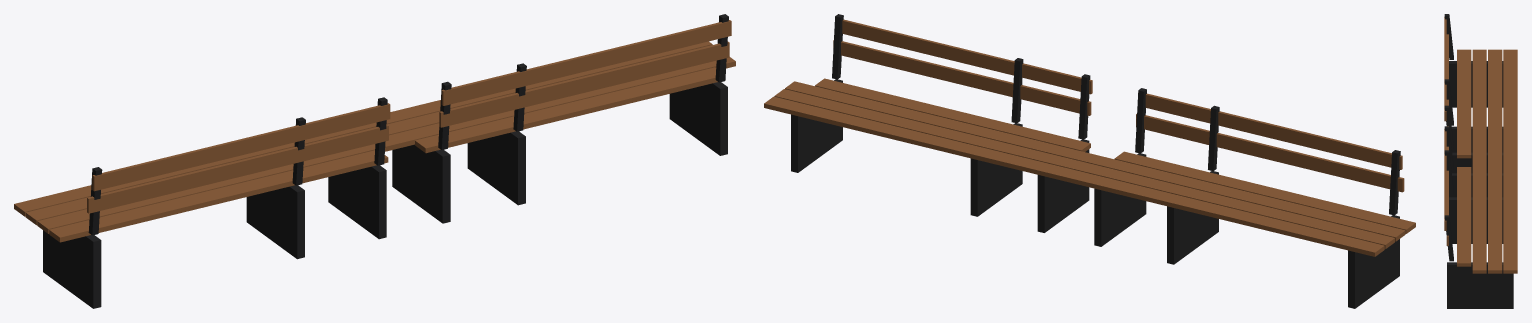
The picture shows the model from 3 angles, left to right: view 1: azimuth 30°, elevation 25°; view 2: azimuth 150°, elevation 25°; view 3: azimuth 270°, elevation 25°; orthographic projection. The views are drawn at different scales.
Visible parts, largest first — view 1: parametric-variant-bench-3rd-237b97815f9af57a8666; view 2: parametric-variant-bench-3rd-237b97815f9af57a8666; view 3: parametric-variant-bench-3rd-237b97815f9af57a8666.
Part boxes in pixels (box(x1,y1,x2,y2)): parametric-variant-bench-3rd-237b97815f9af57a8666: box(14, 14, 735, 308); parametric-variant-bench-3rd-237b97815f9af57a8666: box(764, 14, 1415, 308); parametric-variant-bench-3rd-237b97815f9af57a8666: box(1444, 14, 1517, 308).
Size of the model in its own units: 4.4 by 0.85 by 0.6174.
